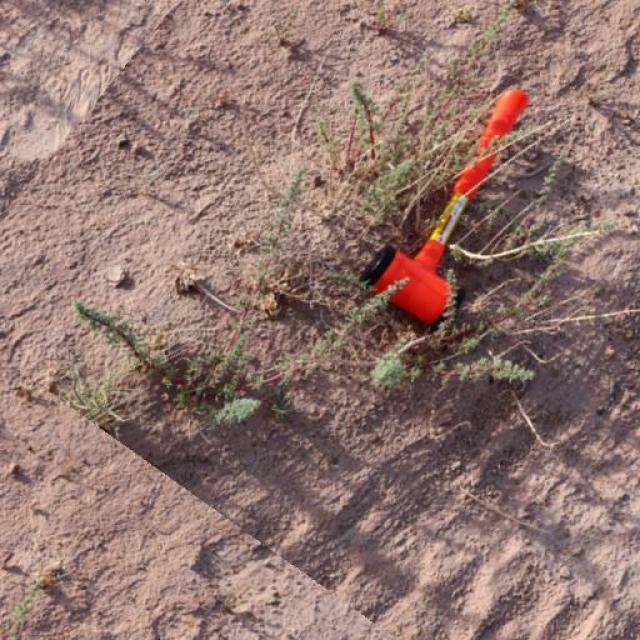mallet: (358, 85, 528, 325)
